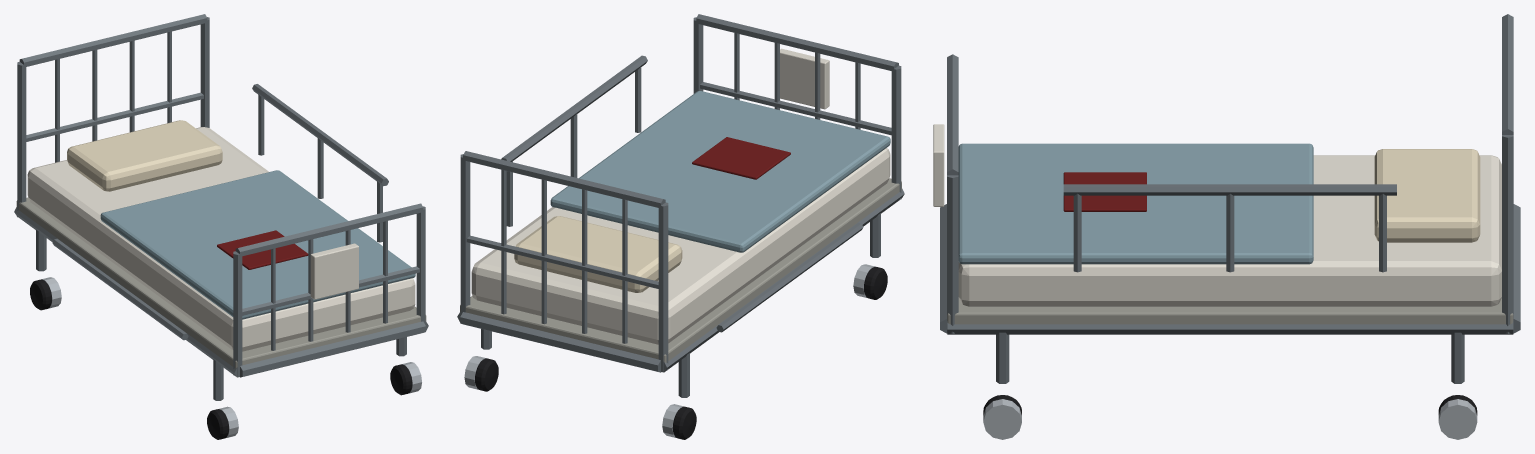
The model's file is hospital_bed.glb.
3 views of the same model, side by side, from view 1: azimuth 30°, elevation 25°; view 2: azimuth 150°, elevation 25°; view 3: azimuth 270°, elevation 25° (orthographic). The views are drawn at different scales.
Visible parts, largest first — view 1: hospital_bed; view 2: hospital_bed; view 3: hospital_bed.
Part boxes in pixels (x1,y1,x2,y2): hospital_bed: (14,14,428,439); hospital_bed: (457,14,904,439); hospital_bed: (933,14,1520,439).
Size of what is drawn, in the model's own units: 1.12 by 1.2 by 2.12.
3 materials, 3 textured.
